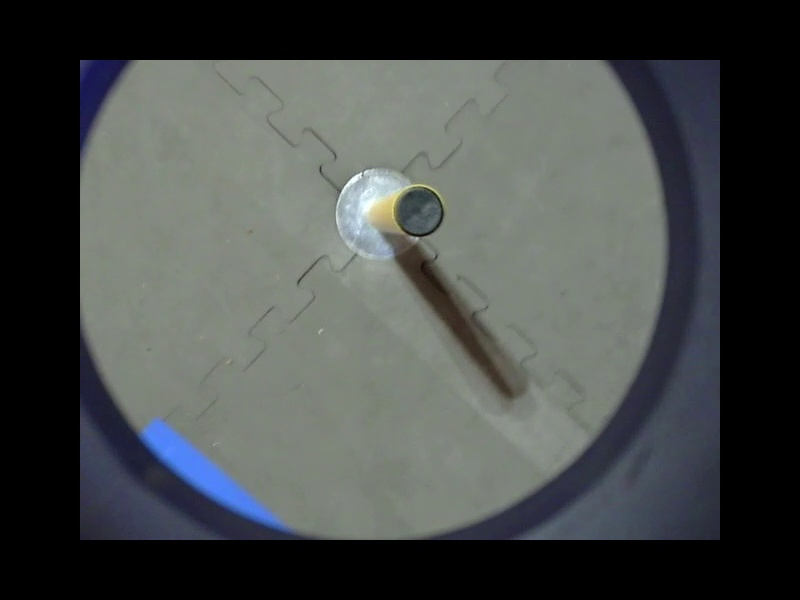tip: (386, 180, 448, 244)
